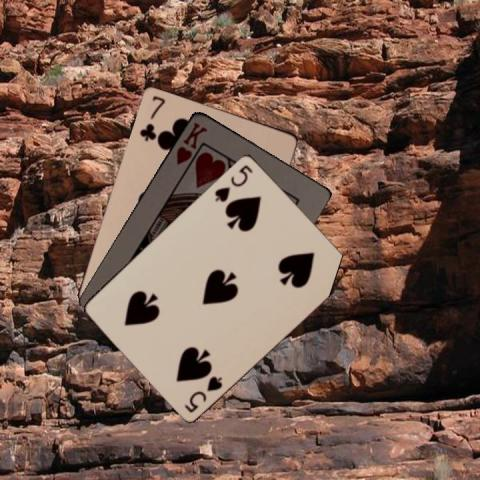5s: (211, 162, 255, 204), (181, 373, 224, 414)
7c: (136, 92, 167, 142)
Kh: (172, 118, 208, 166)
